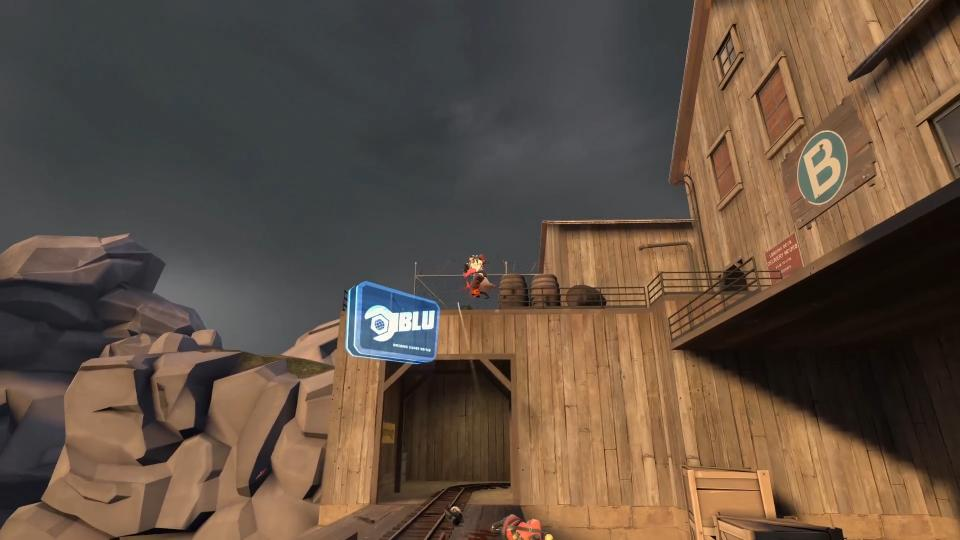Enemy: (483, 511, 555, 540), (463, 253, 491, 299)
